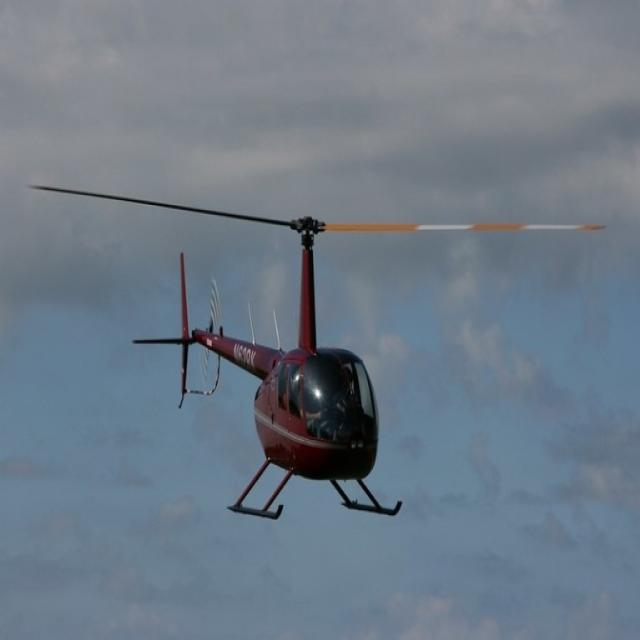CIV_HELO: (132, 209, 405, 520)
